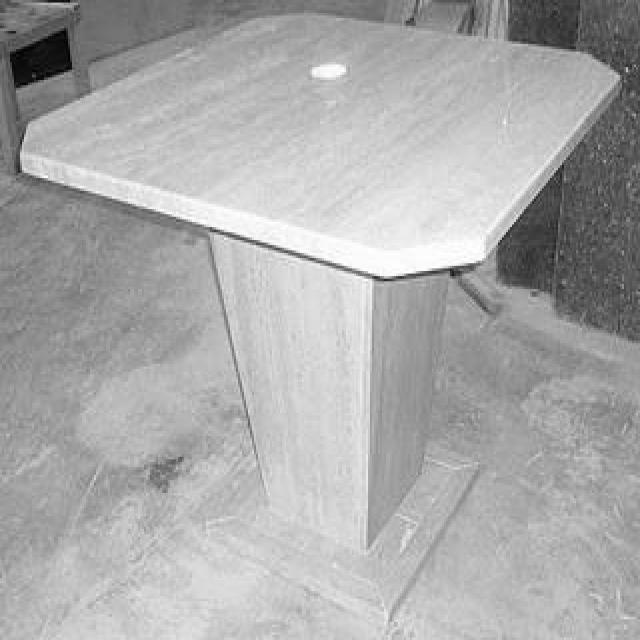table: (20, 13, 621, 624)
